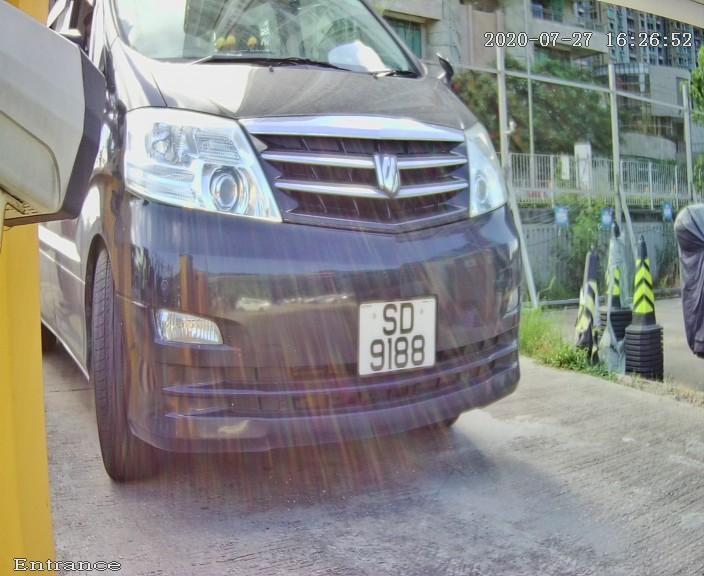privatecar: (41, 21, 573, 489)
